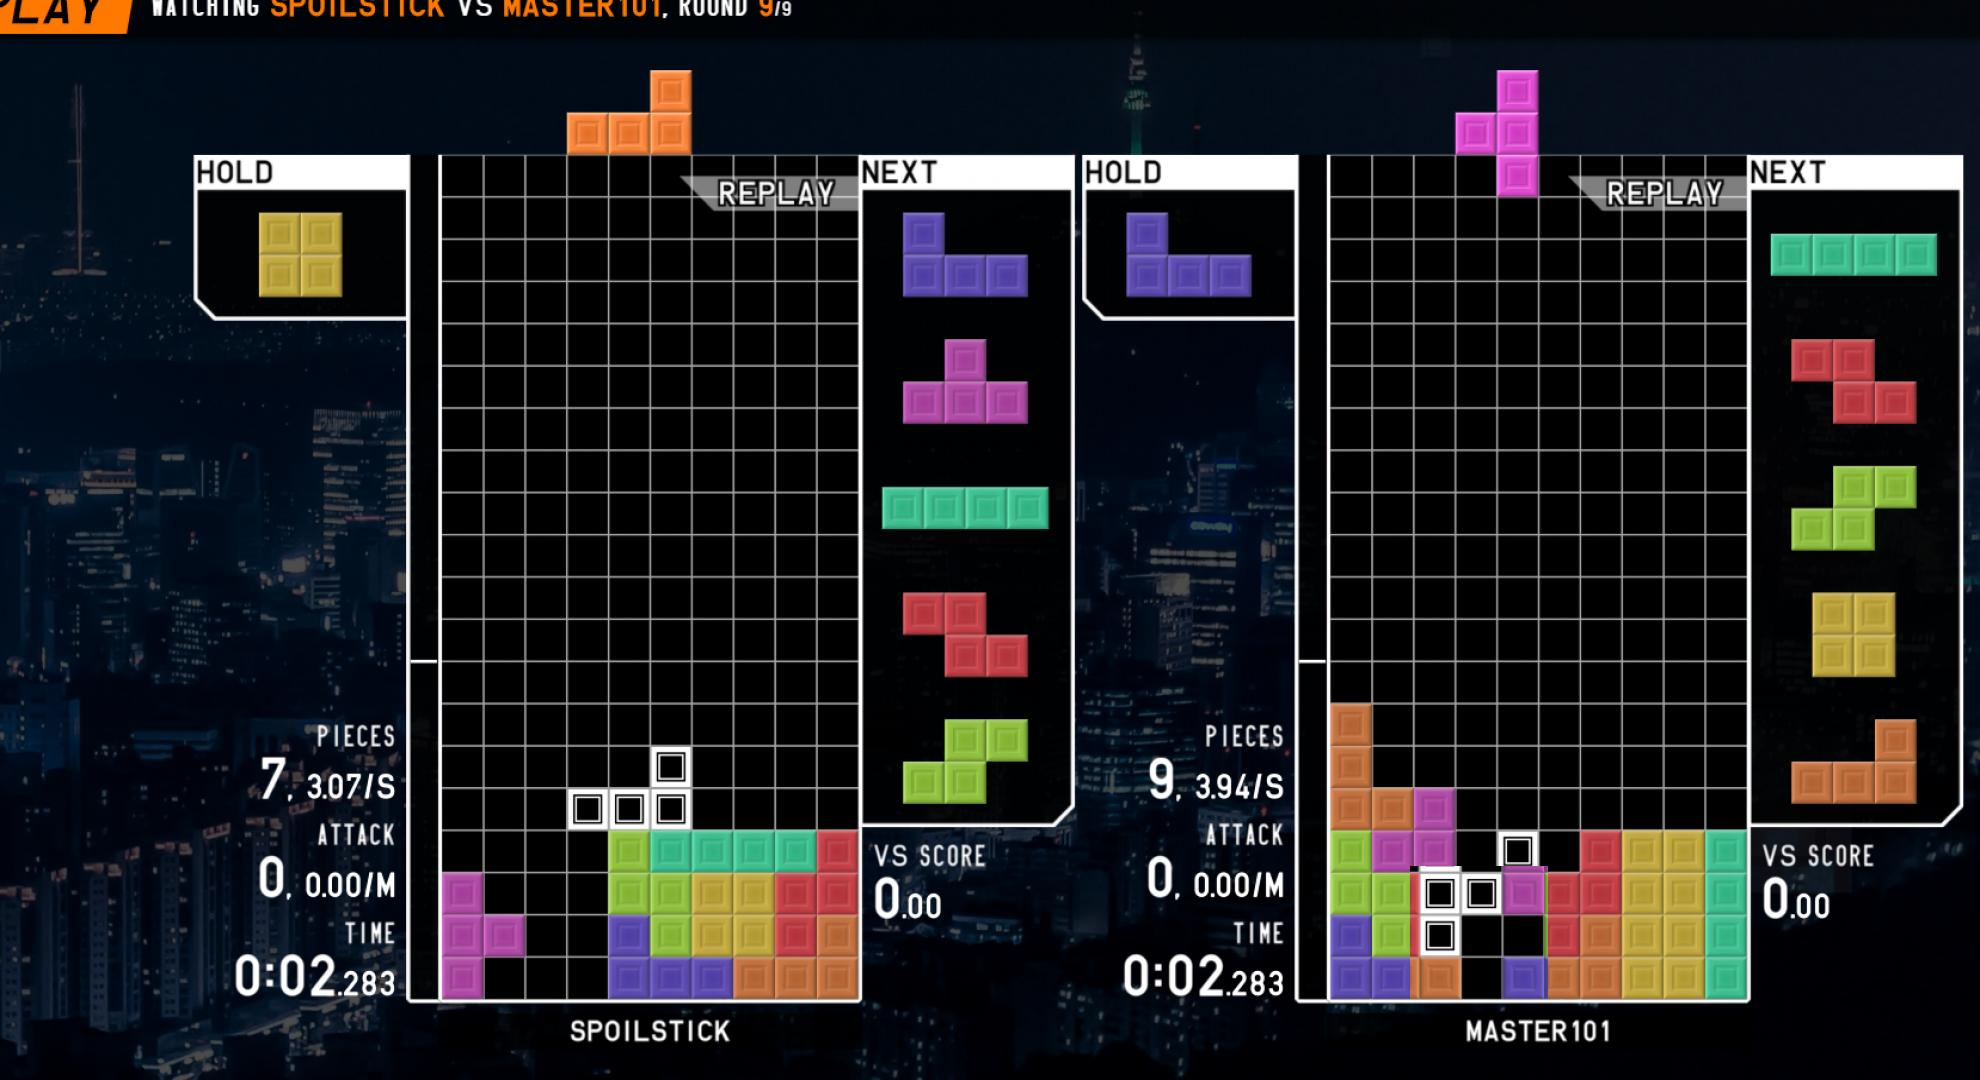tspin: (1411, 866, 1549, 1002)
